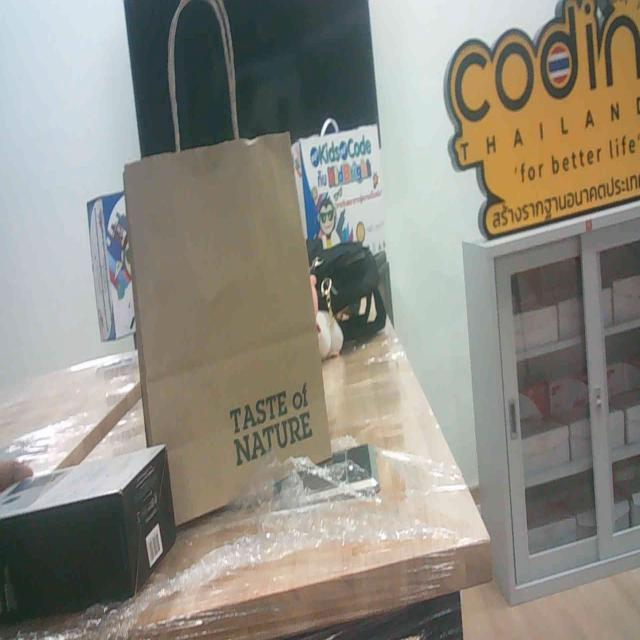bag: (111, 127, 353, 520)
